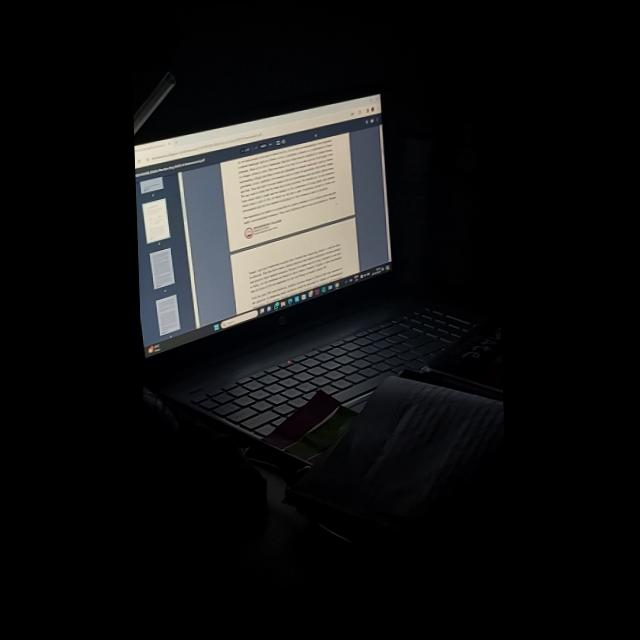laptop: (139, 80, 484, 417)
